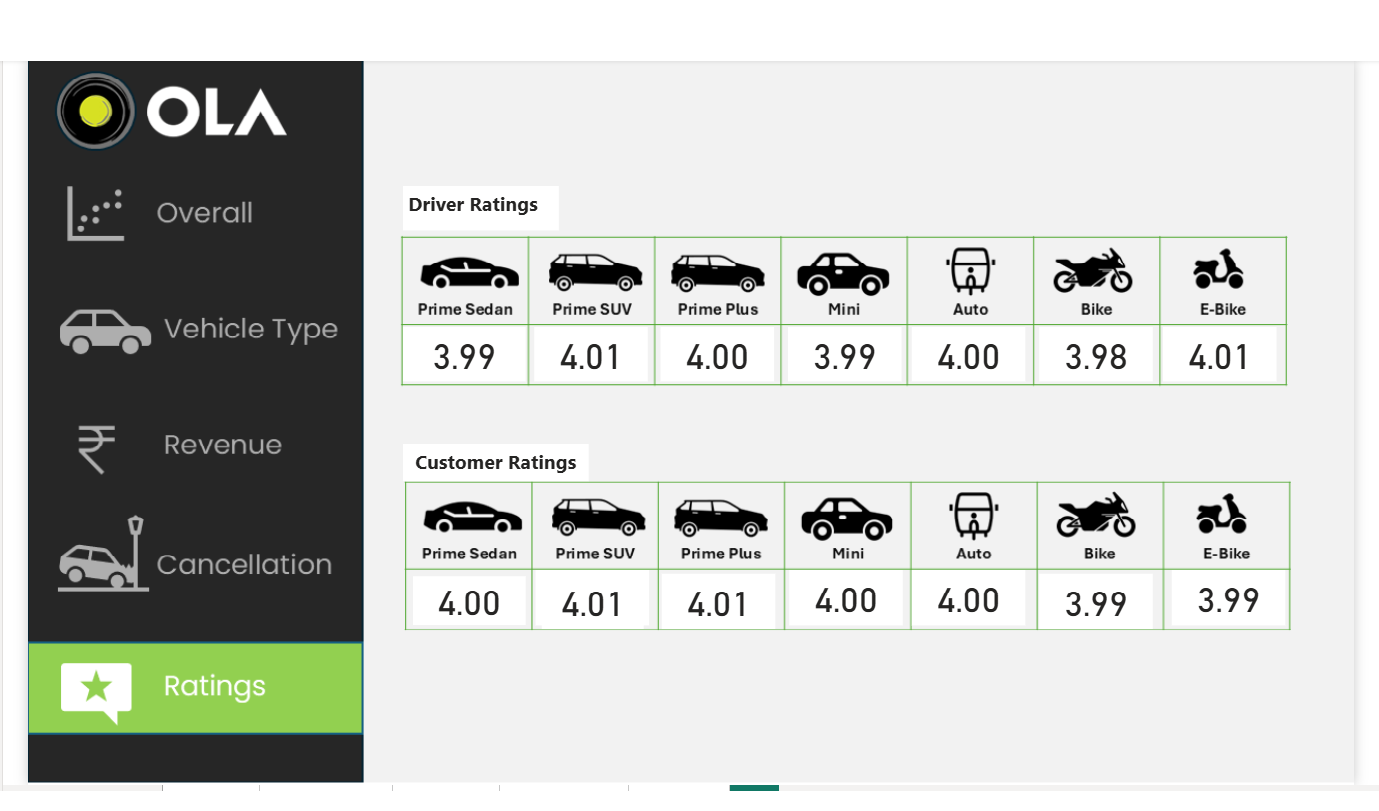

What the dashboard file says about the page in this screenshot:
{"tool":"powerbi","page":{"name":"Ratings","canvas":[1280,720],"ordinal":4},"visuals":[{"type":"actionButton","box":[0,222,319.7,86.9],"z":0},{"type":"actionButton","box":[0,336.6,324.5,89.3],"z":1000},{"type":"actionButton","box":[0,451.2,324.5,89.3],"z":2000},{"type":"actionButton","box":[0,575.5,324.5,89.3],"z":3000},{"type":"actionButton","box":[0,113.4,324.5,89.3],"z":4000},{"type":"card","fields":{"Values":["Avg(July.Driver_Ratings)"]},"box":[361.7,265.4,118.5,54.3],"z":4001},{"type":"card","fields":{"Values":["Avg(July.Driver_Ratings)"]},"box":[488.9,265.4,109.9,54.3],"z":4002},{"type":"card","fields":{"Values":["Avg(July.Driver_Ratings)"]},"box":[609.9,265.4,109.9,54.3],"z":4003},{"type":"card","fields":{"Values":["Avg(July.Driver_Ratings)"]},"box":[733.3,265.4,109.9,54.3],"z":4004},{"type":"card","fields":{"Values":["Avg(July.Driver_Ratings)"]},"box":[853.1,265.4,109.9,54.3],"z":4005},{"type":"card","fields":{"Values":["Avg(July.Driver_Ratings)"]},"box":[976.5,265.4,109.9,54.3],"z":4006},{"type":"card","fields":{"Values":["Avg(July.Driver_Ratings)"]},"box":[1095.1,265.4,109.9,54.3],"z":4007},{"type":"textbox","box":[361.7,125.9,150.6,44.4],"z":4008},{"type":"textbox","box":[361.7,381.5,179,37],"z":4009},{"type":"card","fields":{"Values":["Avg(July.Customer_Rating)"]},"box":[490.1,506.2,109.9,54.3],"z":4010},{"type":"card","fields":{"Values":["Avg(July.Customer_Rating)"]},"box":[371.6,512.3,108.6,48.1],"z":4011},{"type":"card","fields":{"Values":["Avg(July.Customer_Rating)"]},"box":[611.1,509.9,109.9,54.3],"z":4012},{"type":"card","fields":{"Values":["Avg(July.Customer_Rating)"]},"box":[734.6,506.2,109.9,54.3],"z":4013},{"type":"card","fields":{"Values":["Avg(July.Customer_Rating)"]},"box":[496.3,509.9,98.8,54.3],"z":4014},{"type":"card","fields":{"Values":["Avg(July.Customer_Rating)"]},"box":[853.1,506.2,109.9,54.3],"z":4015},{"type":"card","fields":{"Values":["Avg(July.Customer_Rating)"]},"box":[976.5,509.9,109.9,54.3],"z":4016},{"type":"card","fields":{"Values":["Avg(July.Customer_Rating)"]},"box":[1103.7,506.2,109.9,54.3],"z":4017}]}

Visuals, with their boxes on the page's 1280x720 design canvas (x1, y1, x2, y2). These are canvas units, not pixel positions in the 1379x811 screenshot, which may show the page scaled, cropped or inside an application window:
actionButton: locate(0, 222, 320, 309)
actionButton: locate(0, 337, 324, 426)
actionButton: locate(0, 451, 324, 540)
actionButton: locate(0, 576, 324, 665)
actionButton: locate(0, 113, 324, 203)
card - Avg(July.Driver_Ratings): locate(362, 265, 480, 320)
card - Avg(July.Driver_Ratings): locate(489, 265, 599, 320)
card - Avg(July.Driver_Ratings): locate(610, 265, 720, 320)
card - Avg(July.Driver_Ratings): locate(733, 265, 843, 320)
card - Avg(July.Driver_Ratings): locate(853, 265, 963, 320)
card - Avg(July.Driver_Ratings): locate(976, 265, 1086, 320)
card - Avg(July.Driver_Ratings): locate(1095, 265, 1205, 320)
textbox: locate(362, 126, 512, 170)
textbox: locate(362, 382, 541, 418)
card - Avg(July.Customer_Rating): locate(490, 506, 600, 560)
card - Avg(July.Customer_Rating): locate(372, 512, 480, 560)
card - Avg(July.Customer_Rating): locate(611, 510, 721, 564)
card - Avg(July.Customer_Rating): locate(735, 506, 844, 560)
card - Avg(July.Customer_Rating): locate(496, 510, 595, 564)
card - Avg(July.Customer_Rating): locate(853, 506, 963, 560)
card - Avg(July.Customer_Rating): locate(976, 510, 1086, 564)
card - Avg(July.Customer_Rating): locate(1104, 506, 1214, 560)
